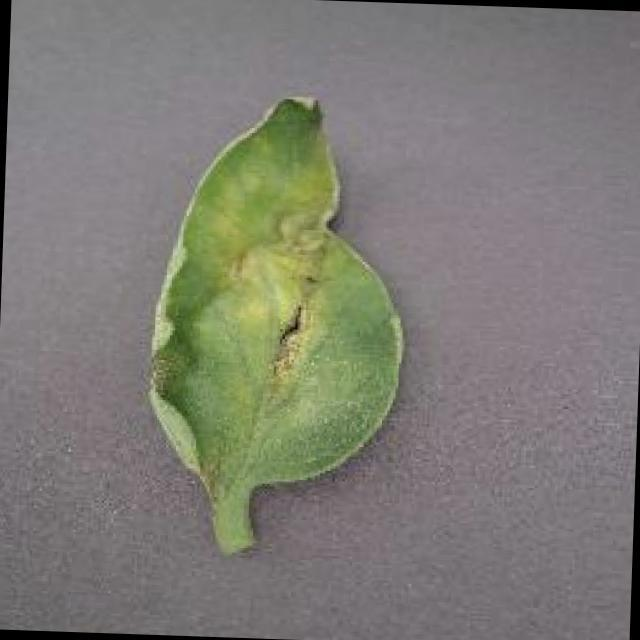Tomato late blight leaf: (139, 86, 416, 500)
